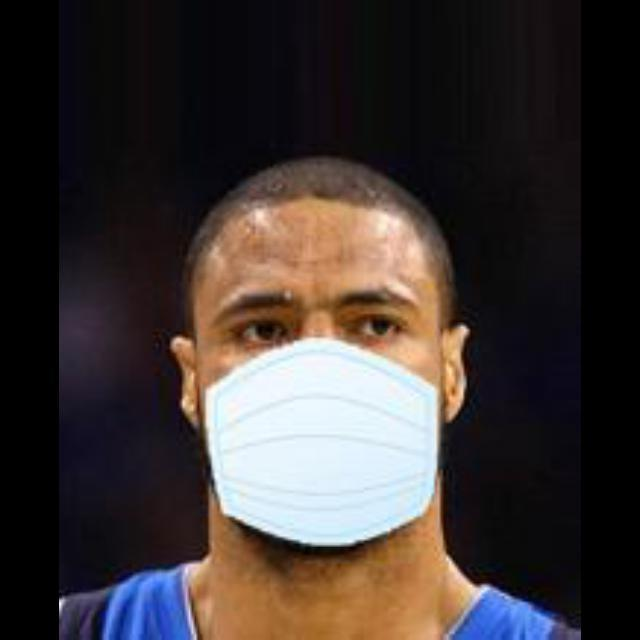suspicion: (154, 44, 512, 572)
